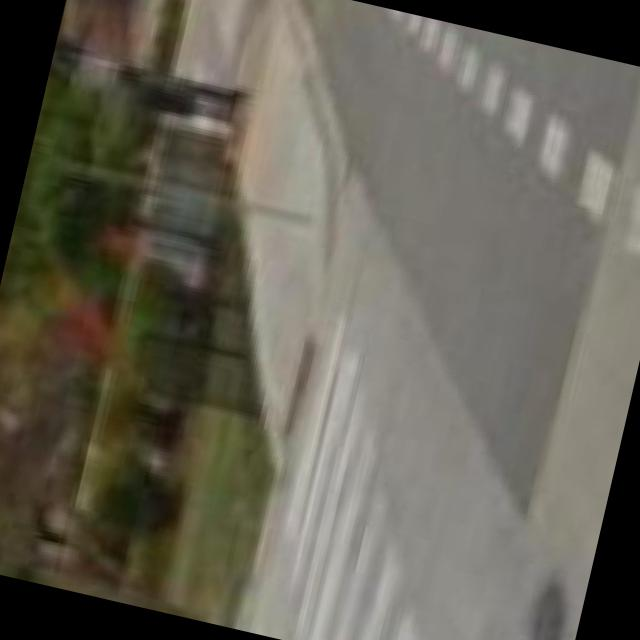zebra: (270, 277, 460, 640)
